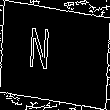N_S: (43, 28, 67, 82)
